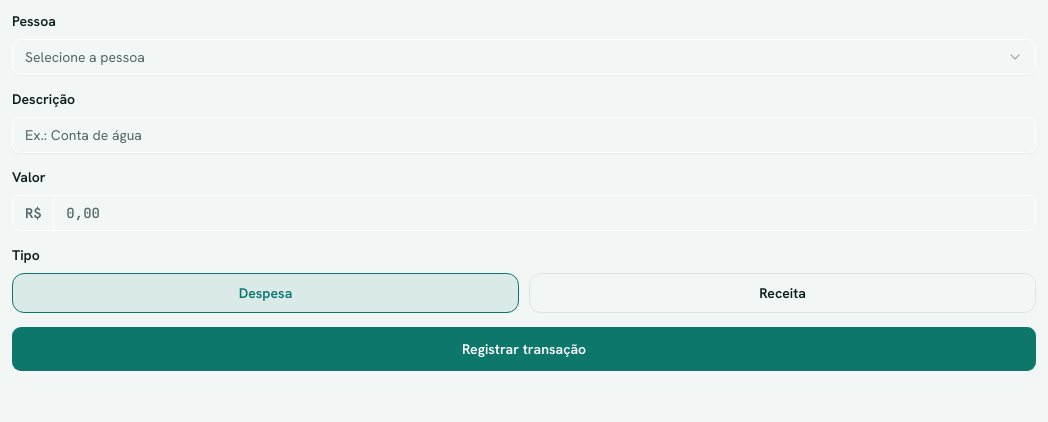
Scenario: TransacaoForm › bloqueia envio sem pessoa selecionada
Type "Conta" into the field labelled "Descrição" at coordinates (524, 135), box [12,117,1036,153]
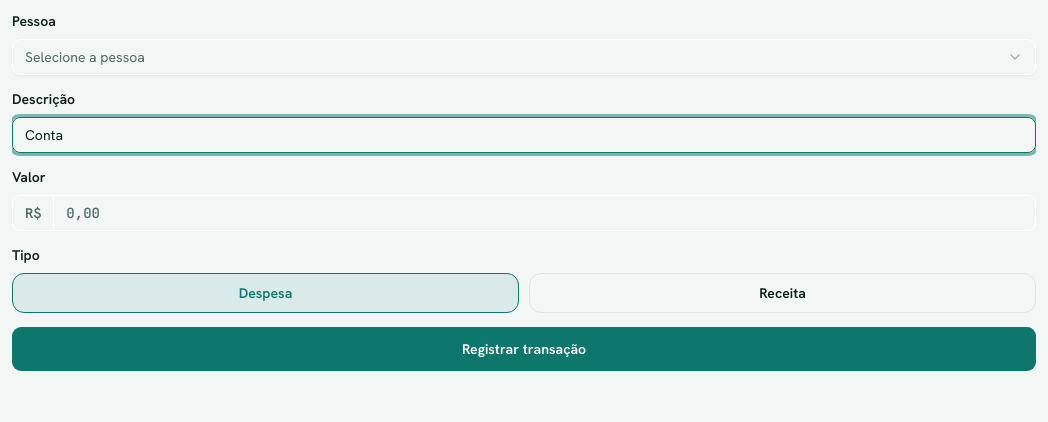
Type "10" into the field labelled "Valor" at coordinates (545, 213), box [54,196,1035,230]
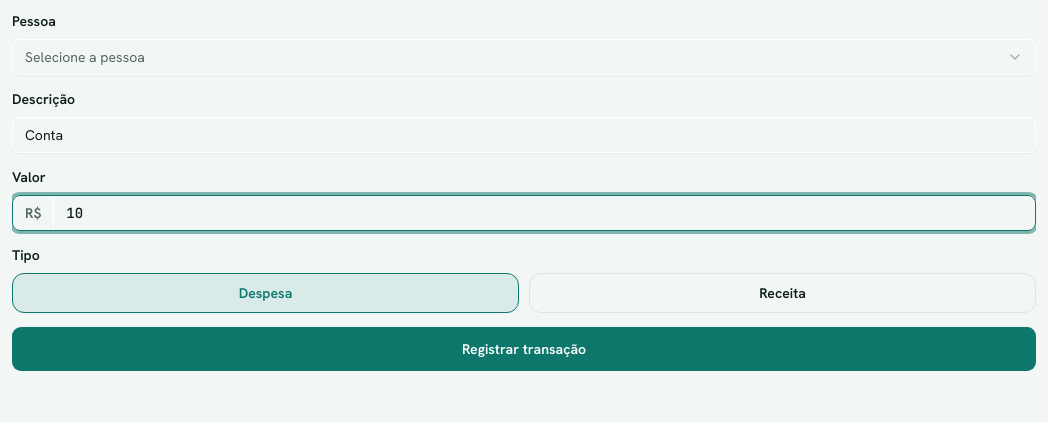
Click the button "Registrar transação" at coordinates (524, 349), box [12,327,1036,371]
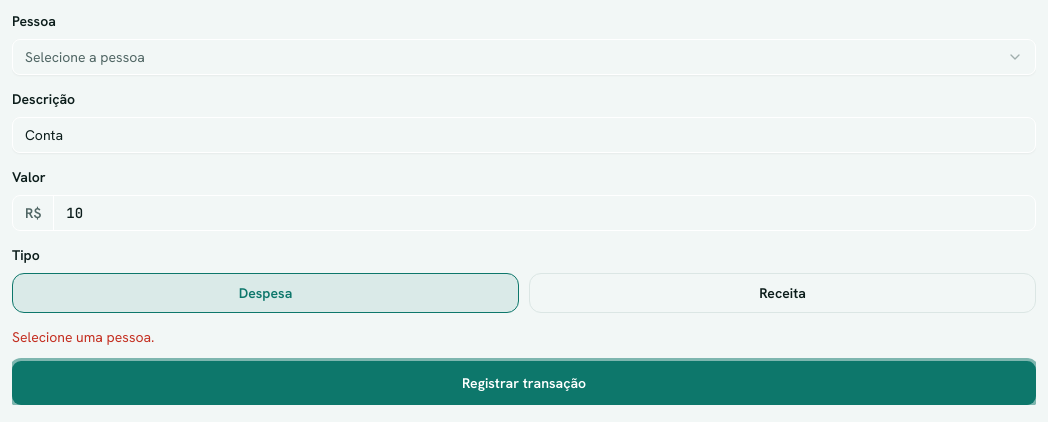
Check: the text "Selecione uma pessoa." is shown, box [12,328,154,346]
